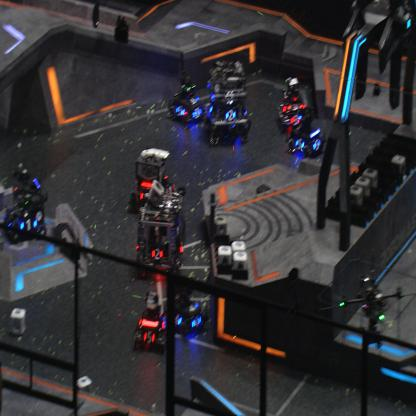car: (136, 183, 188, 278), (206, 59, 252, 144), (0, 166, 47, 242), (129, 146, 177, 216), (166, 277, 208, 339), (132, 291, 171, 350), (168, 74, 206, 126), (288, 110, 326, 159), (277, 74, 309, 130)
